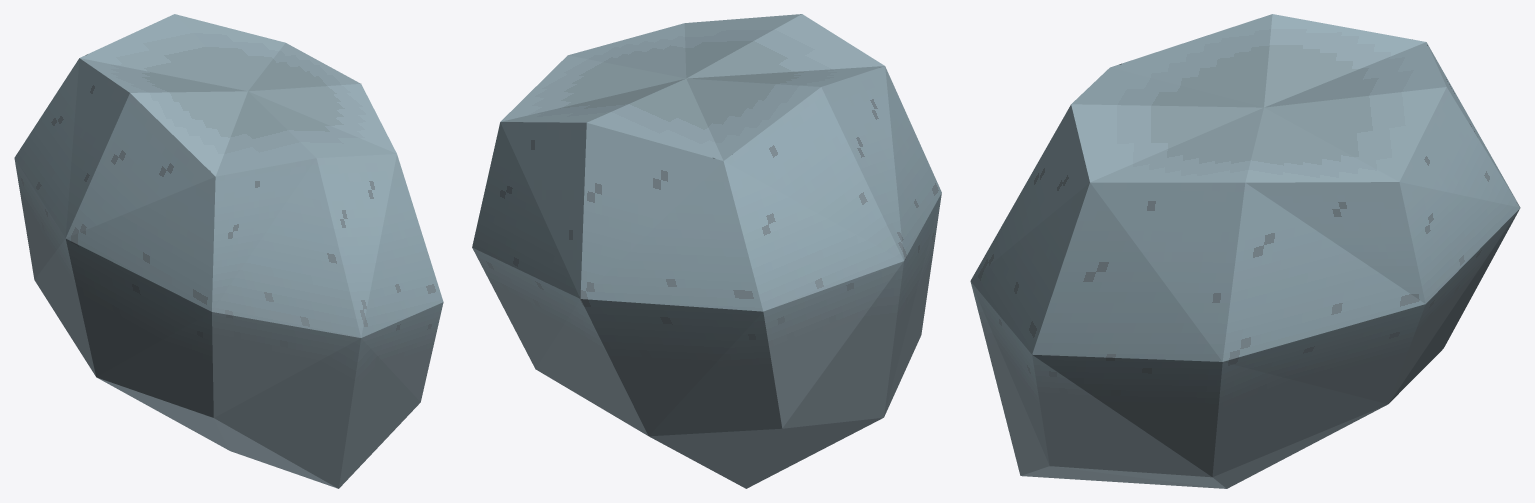
The model's file is roca_3.gltf.
3 renders of one model, left to right at view 1: azimuth 30°, elevation 25°; view 2: azimuth 150°, elevation 25°; view 3: azimuth 270°, elevation 25°, orthographic. The views are drawn at different scales.
Visible parts, largest first — view 1: roca 3; view 2: roca 3; view 3: roca 3.
Boxes of the visible parts, bbox=[...] form: roca 3: bbox=[14, 14, 443, 488]; roca 3: bbox=[472, 14, 941, 488]; roca 3: bbox=[970, 14, 1520, 488].
Size of the model in its own units: 2.68 by 2.84 by 3.3.
Materials: 1 (1 with a texture image).
